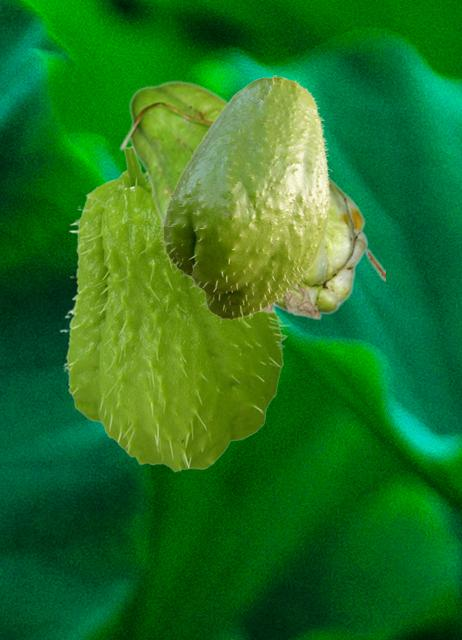sayote: (59, 146, 289, 471), (157, 75, 331, 322), (118, 80, 276, 313), (275, 177, 384, 319)
